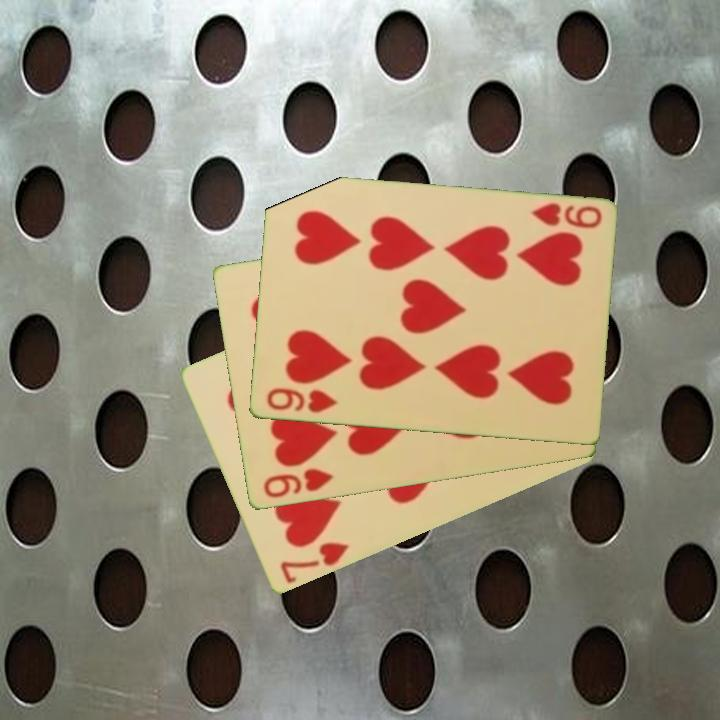7h: (276, 539, 352, 587)
9h: (259, 465, 337, 501), (262, 384, 340, 416), (527, 200, 604, 232)
